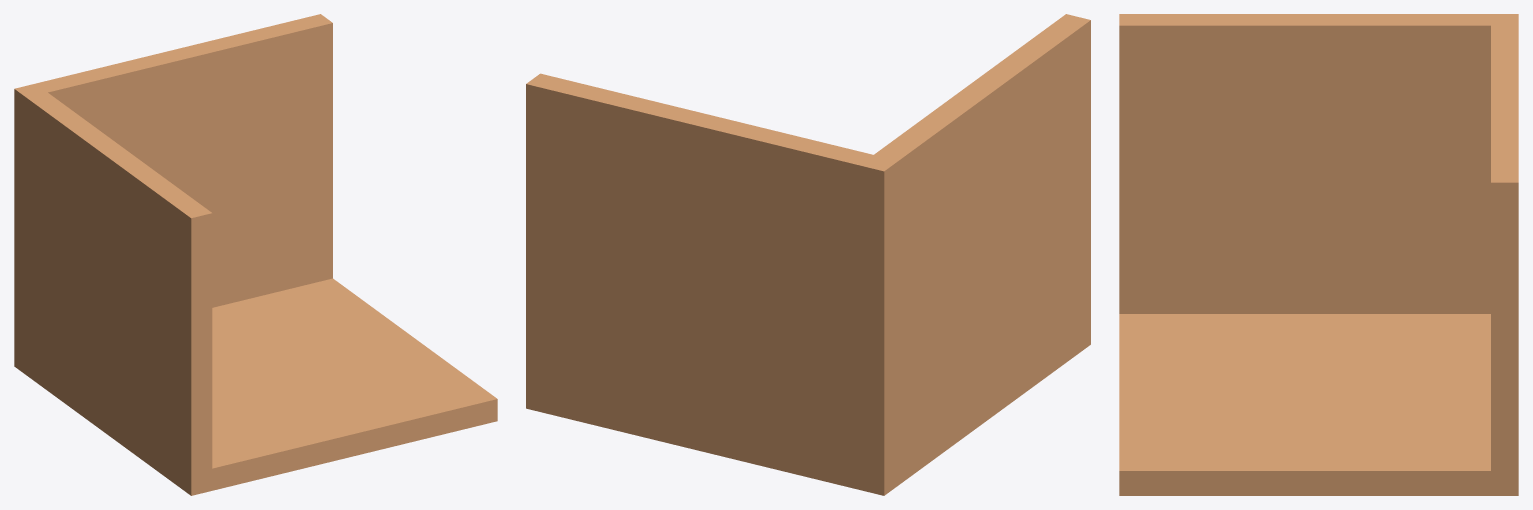
The model's file is Test_Room.glb.
3 views of the same model, side by side, from view 1: azimuth 30°, elevation 25°; view 2: azimuth 150°, elevation 25°; view 3: azimuth 270°, elevation 25° (orthographic). The views are drawn at different scales.
Parts seen in each view (by area): view 1: Plane.004; view 2: Plane.004; view 3: Plane.004.
Boxes of the visible parts, <box> form: Plane.004: <box>14,14,497,495</box>; Plane.004: <box>526,14,1090,495</box>; Plane.004: <box>1119,14,1518,495</box>.
Bounding box in the file's own units: 2.15 × 1.86 × 2.15.
